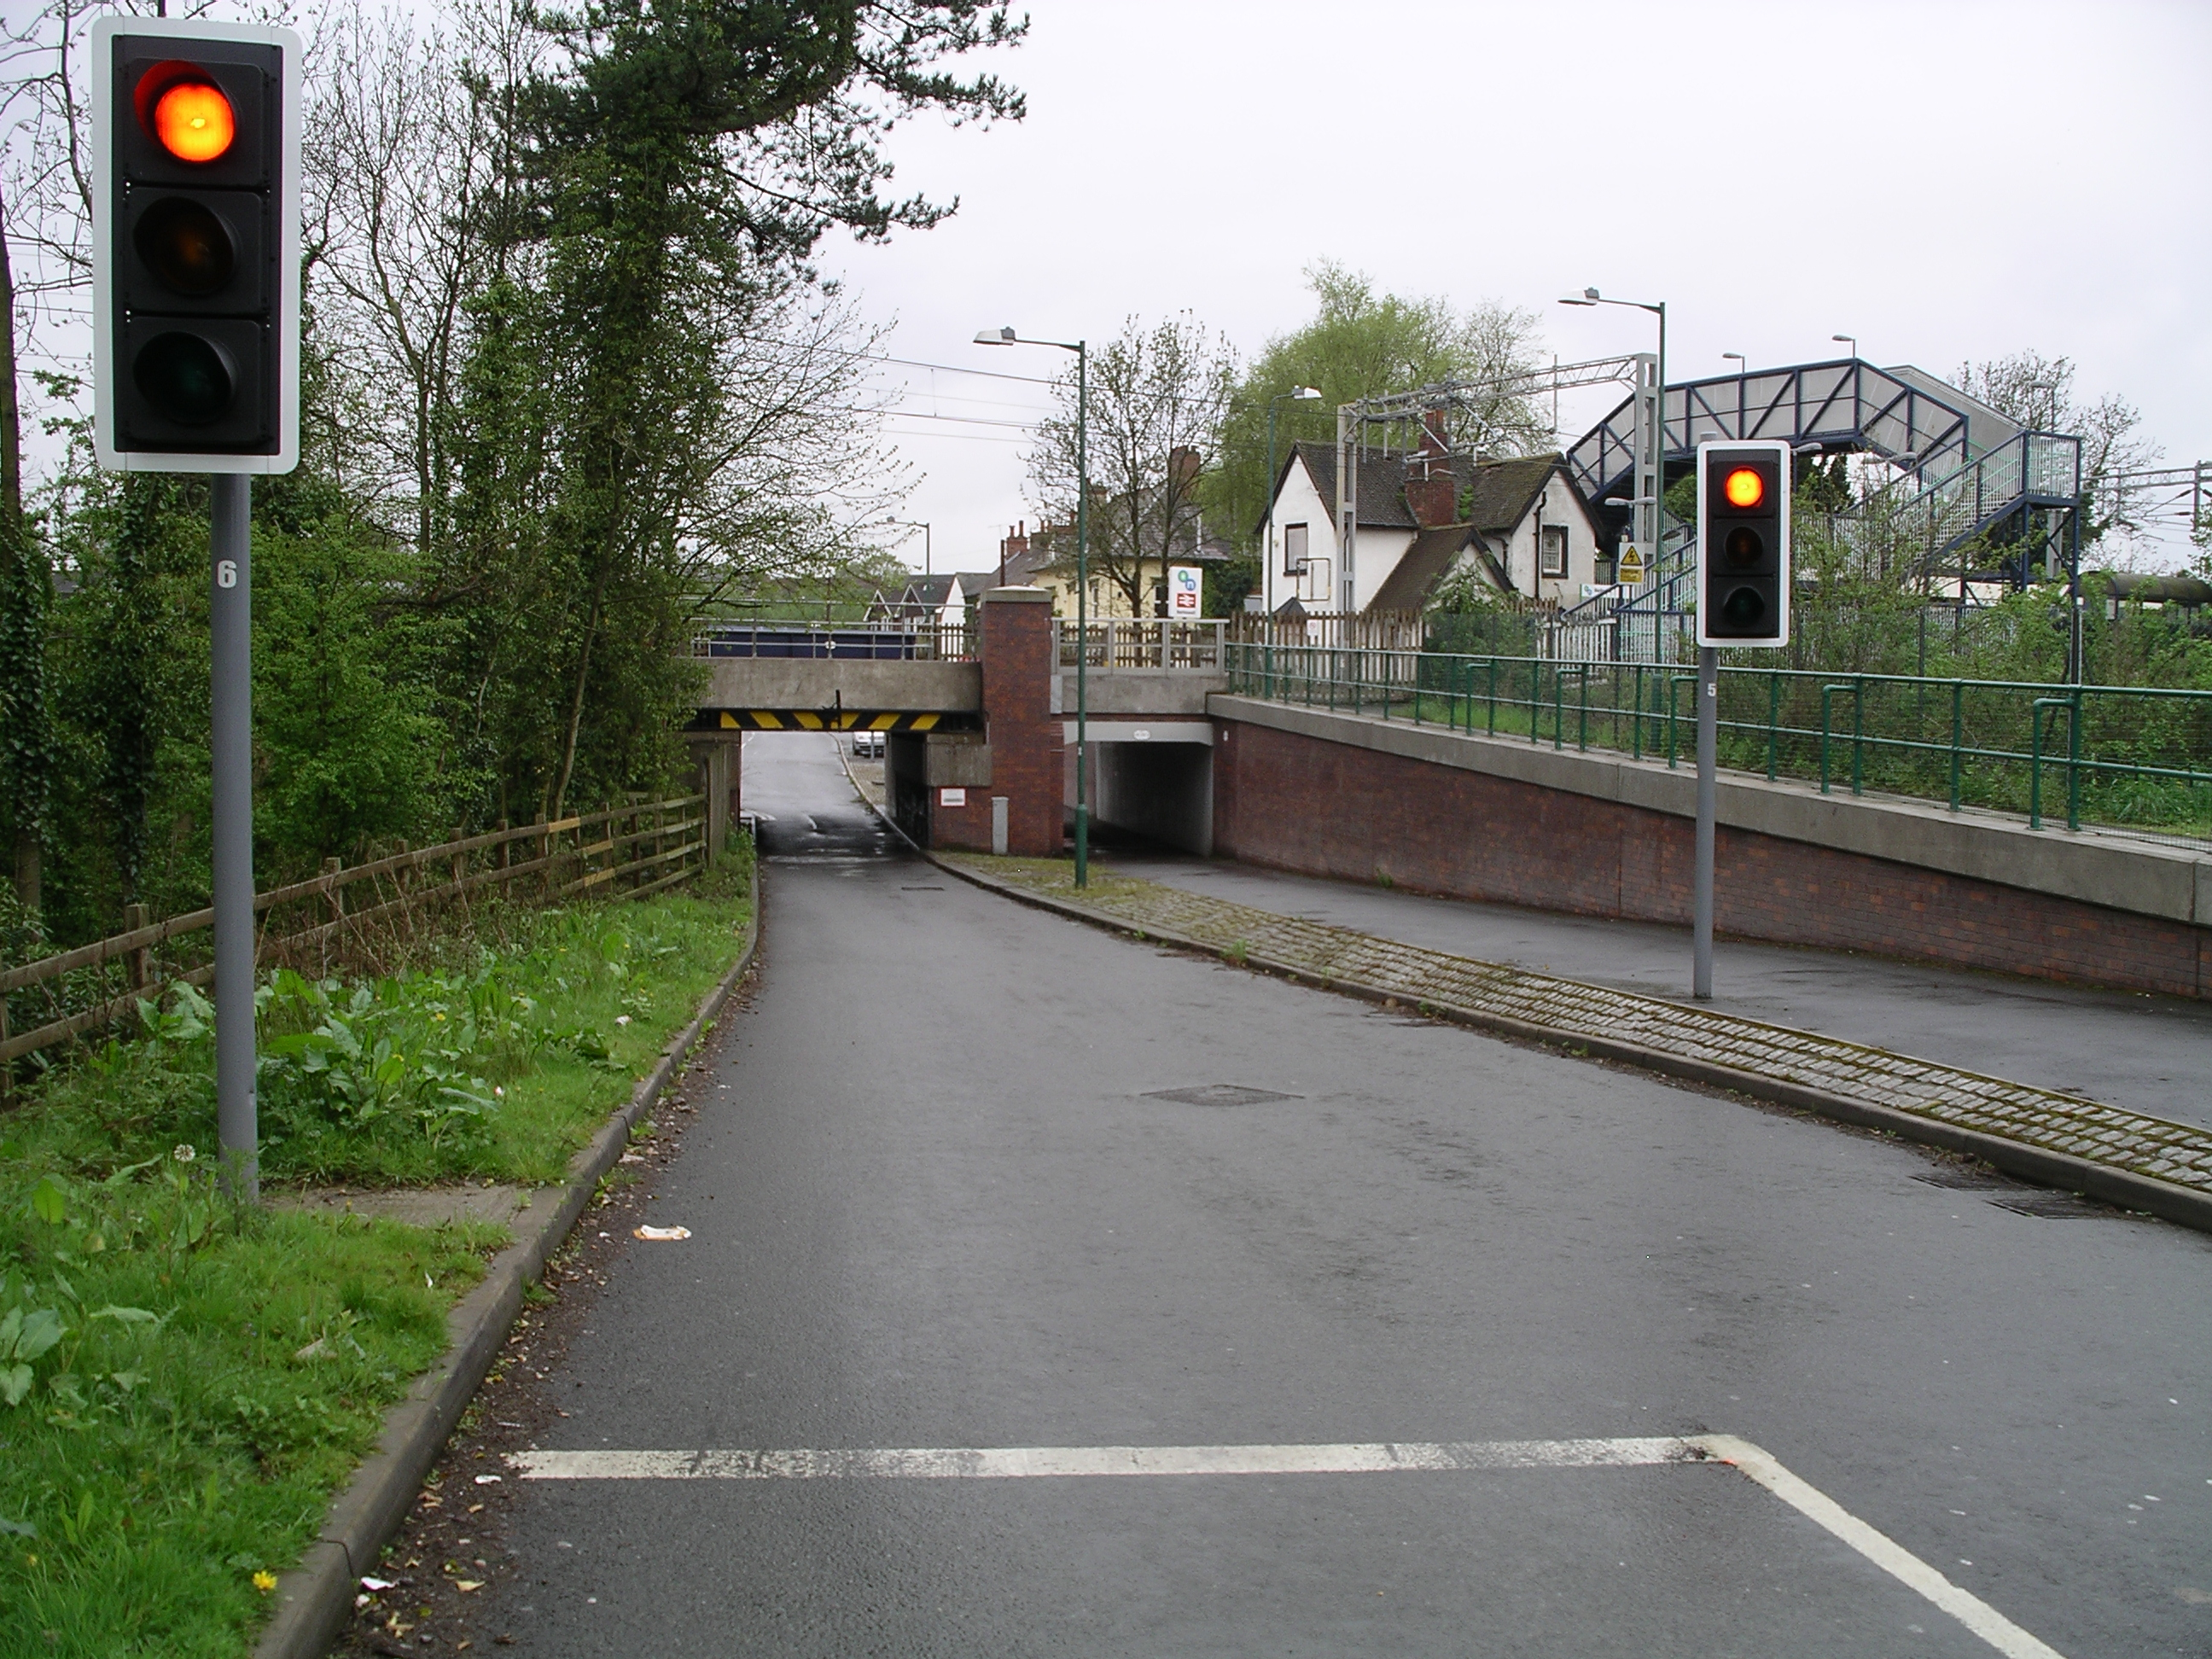stop: (103, 26, 289, 465), (1703, 446, 1785, 647)
